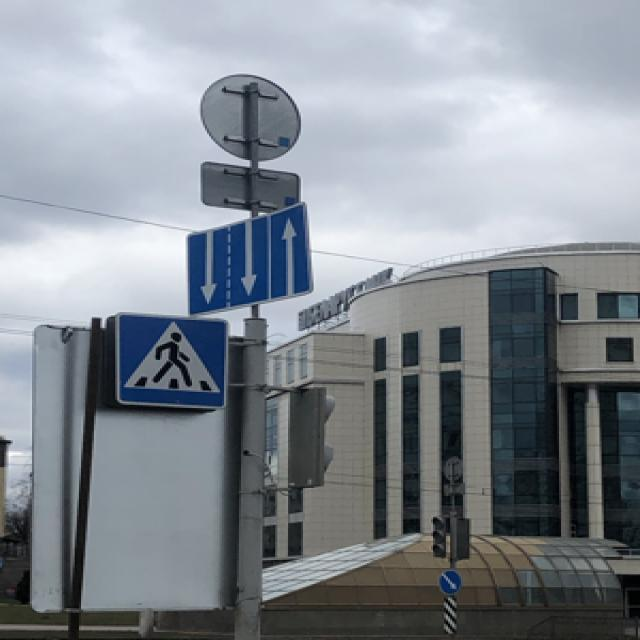crosswalk_sign: (110, 310, 232, 414)
